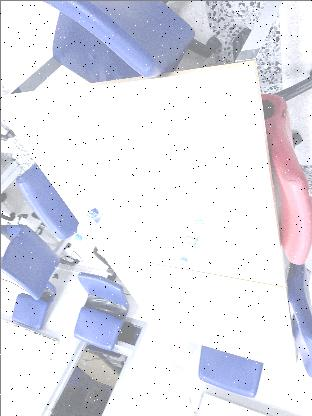Plastic Bottle: (74, 191, 114, 241), (177, 214, 205, 264)
